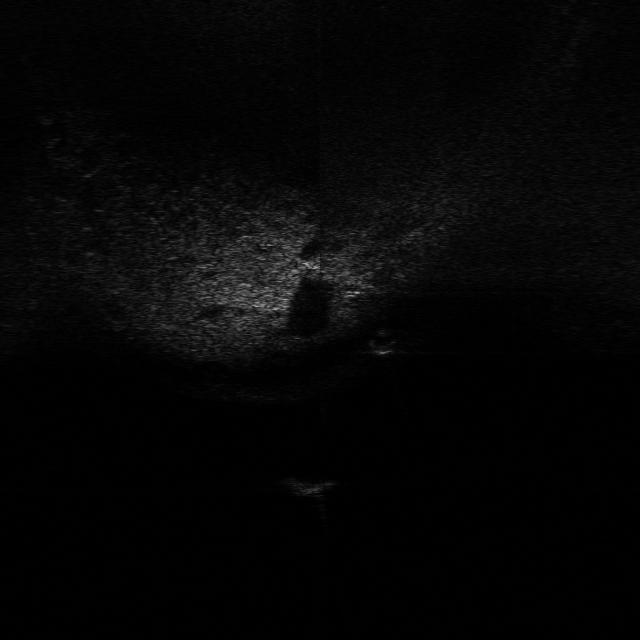ball: (364, 325, 400, 359)
cube: (273, 474, 339, 498)
